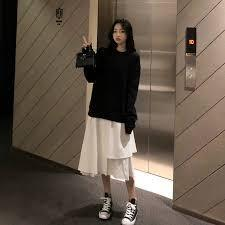skirt: (78, 109, 144, 183)
sweater: (74, 42, 148, 133)
